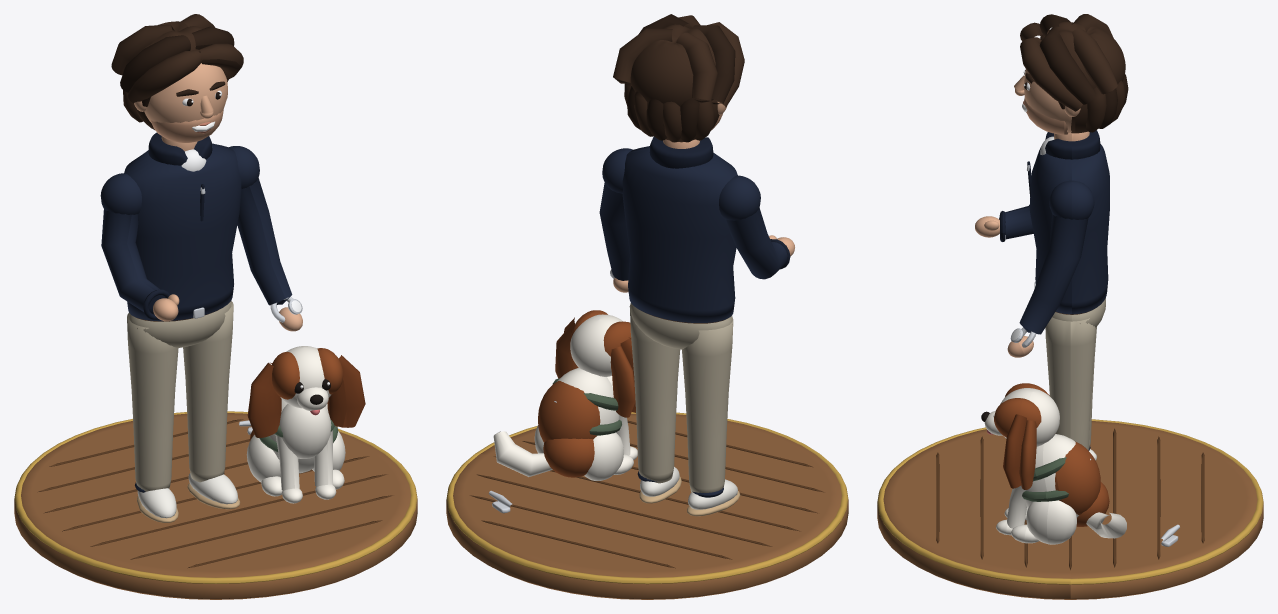
Rendered from boat-guy-no-cap.glb.
The picture shows the model from 3 angles, left to right: view 1: azimuth 30°, elevation 25°; view 2: azimuth 150°, elevation 25°; view 3: azimuth 270°, elevation 25°; orthographic projection. The views are drawn at different scales.
Visible parts, largest first — view 1: FigurineRoot; view 2: FigurineRoot; view 3: FigurineRoot.
Part boxes in pixels (box(x1,y1,x2,y2)): FigurineRoot: box(14, 14, 417, 599); FigurineRoot: box(446, 14, 848, 599); FigurineRoot: box(877, 14, 1263, 599).
Size of the model in its own units: 1.4 by 1.91 by 1.4.
